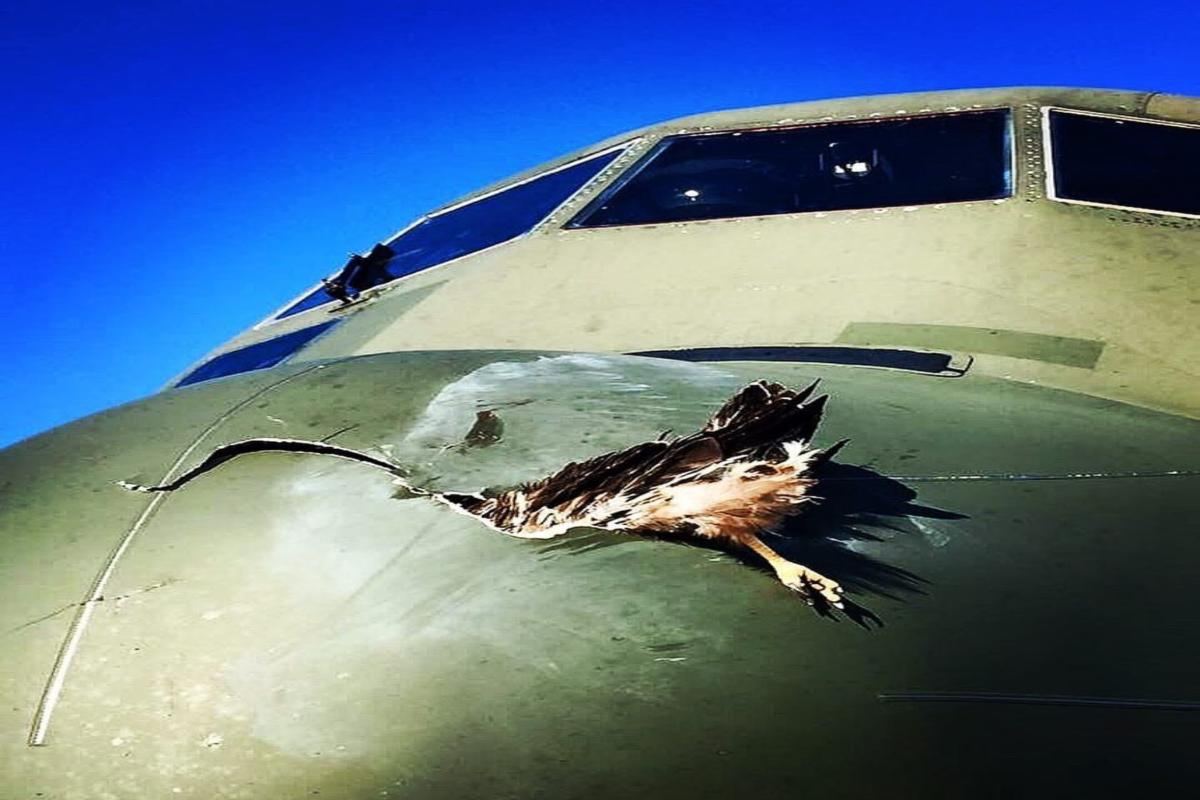Fuselage_damage: (92, 381, 967, 634), (104, 434, 411, 494)
